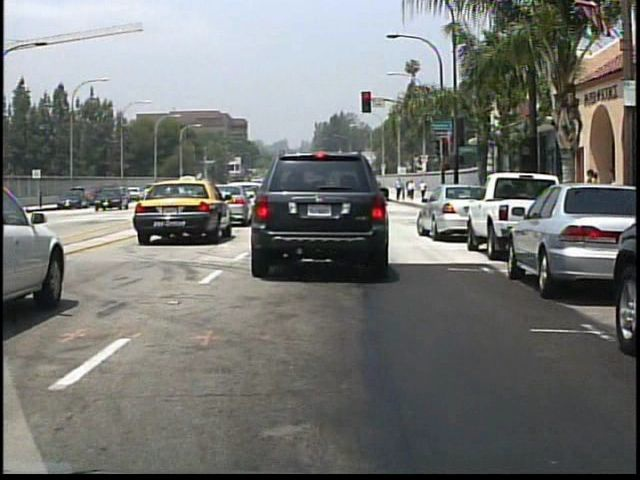person: (582, 166, 604, 227), (419, 178, 429, 201), (397, 176, 405, 199), (408, 178, 416, 201)
